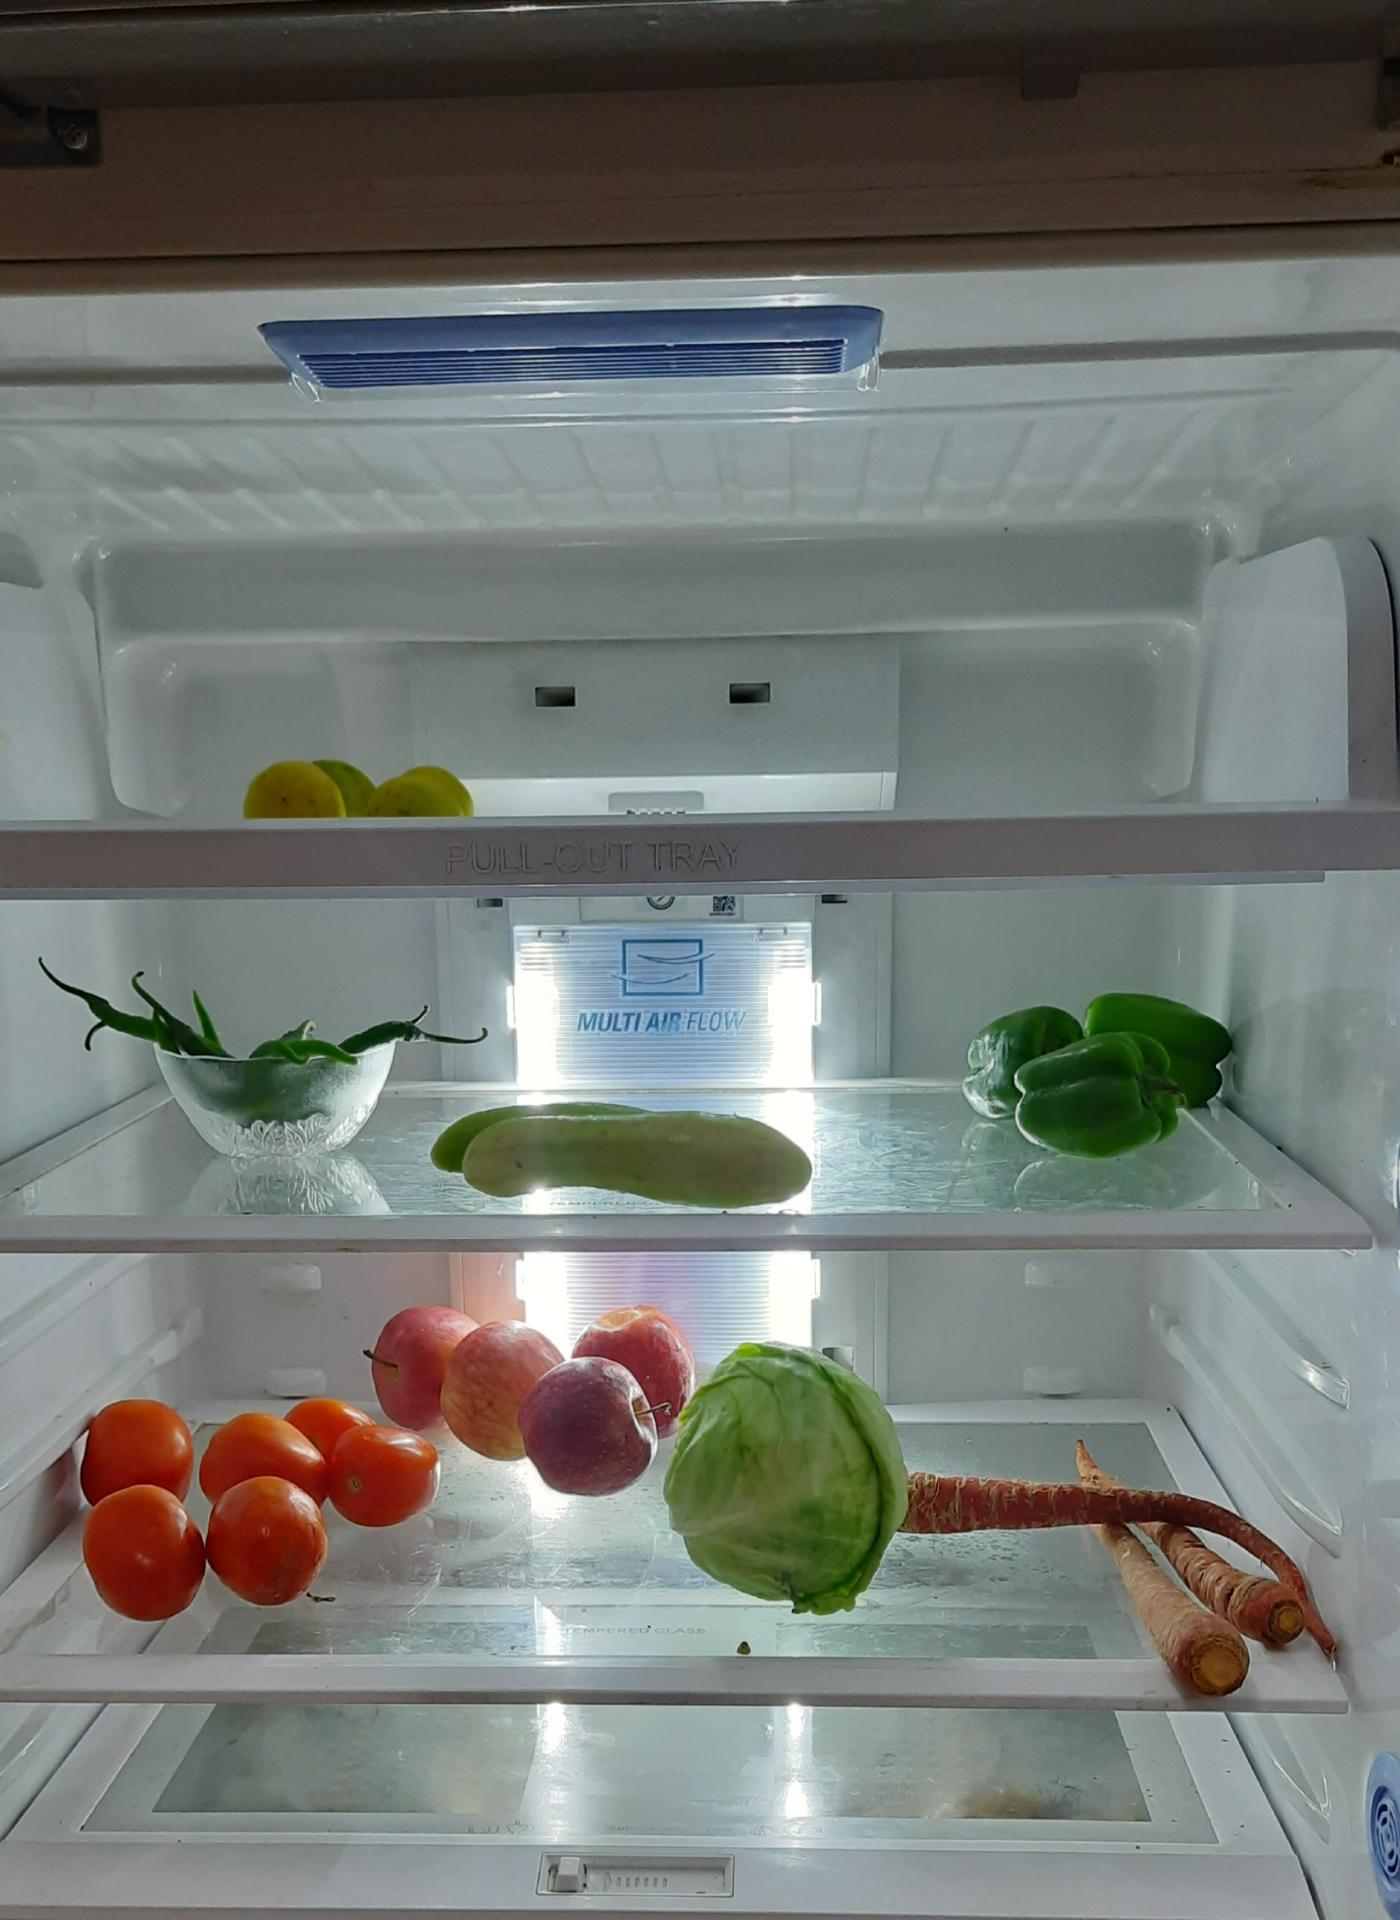apple: (365, 1286, 689, 1485)
cabbage: (668, 1343, 899, 1613)
capsicum: (957, 1003, 1227, 1178)
carrots: (898, 1428, 1319, 1689)
chillies: (51, 967, 417, 1133)
cucumber: (428, 1094, 817, 1200)
lemon: (239, 750, 480, 827)
tomato: (82, 1394, 452, 1616)
